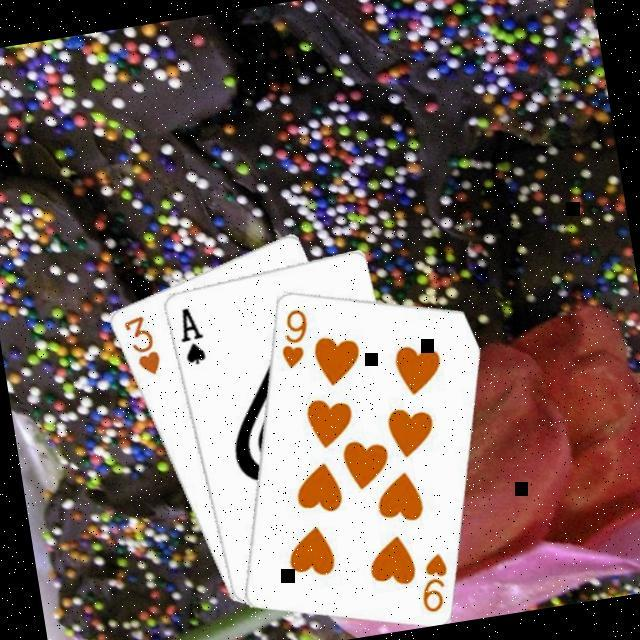3H: (120, 310, 166, 381)
9H: (412, 549, 458, 618), (272, 304, 317, 372)
AS: (173, 303, 211, 370)
